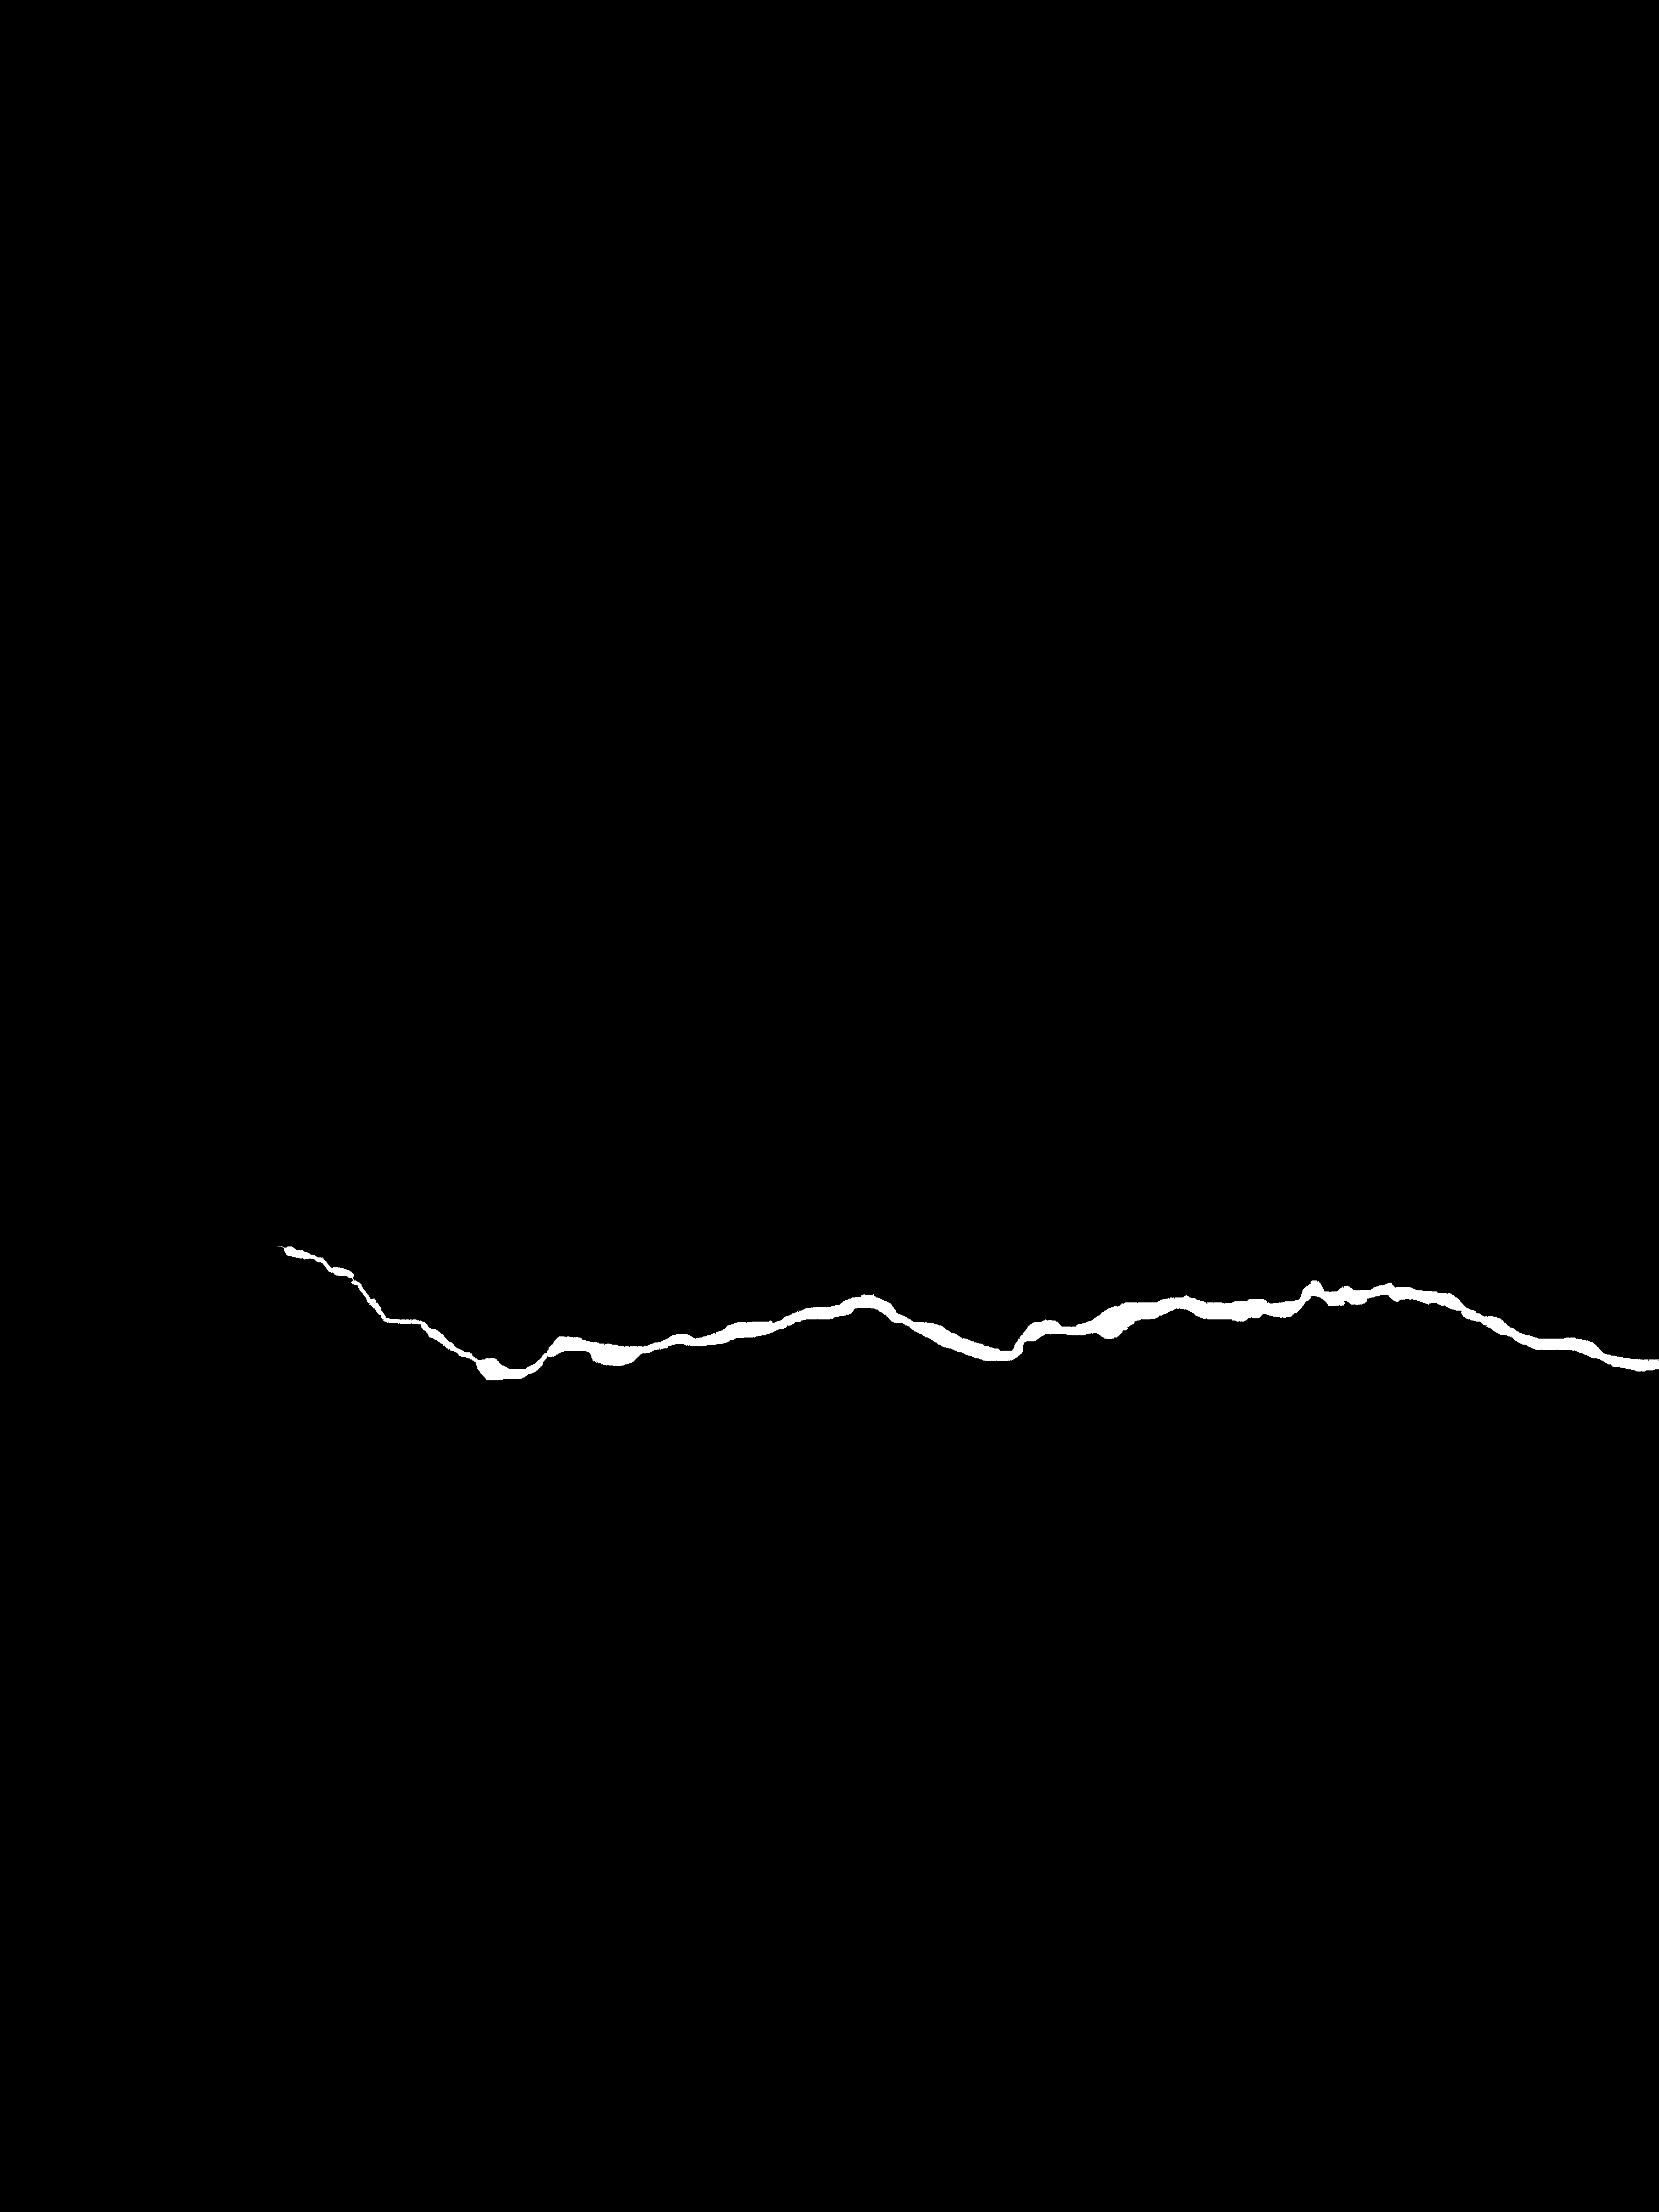Crack: (192, 1188, 1659, 1423)
